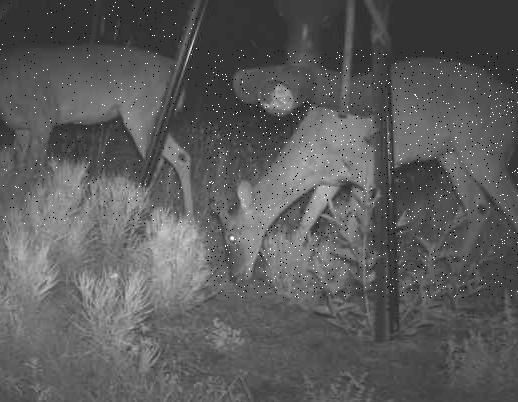Deer: (206, 50, 518, 298), (0, 0, 199, 227)
